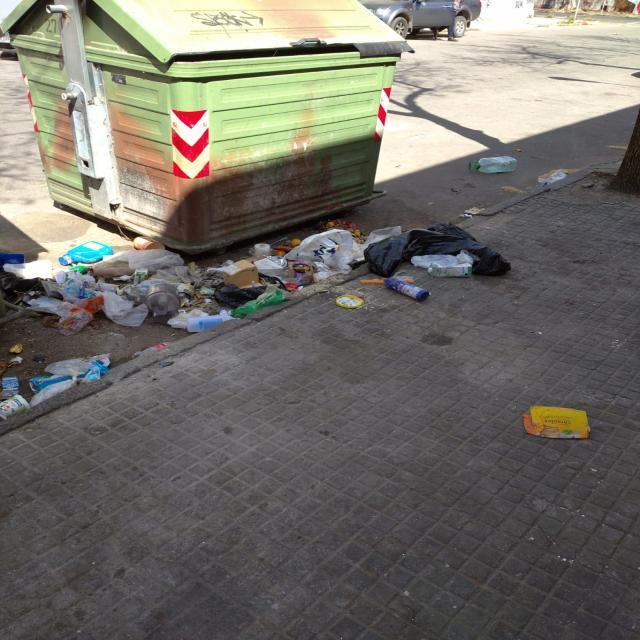high trash: (0, 222, 510, 332)
less trash: (0, 354, 109, 419), (524, 406, 590, 439), (478, 156, 516, 173)
